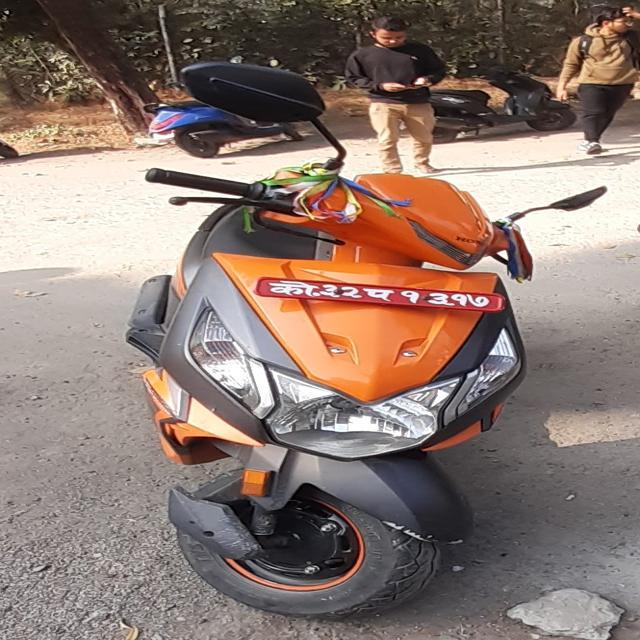license_plate: (242, 274, 508, 319)
